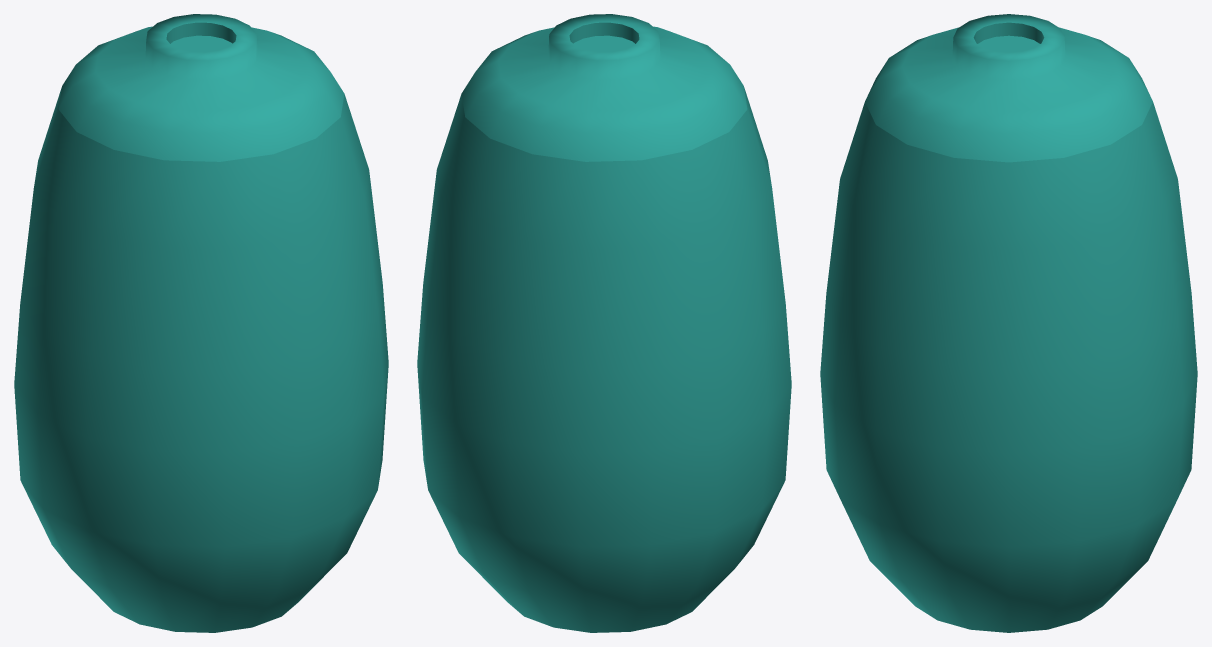
File: Vase.fbx
3 views of the same model, side by side, from view 1: azimuth 30°, elevation 25°; view 2: azimuth 150°, elevation 25°; view 3: azimuth 270°, elevation 25° (orthographic).
Parts seen in each view (by area): view 1: polySurface1062; view 2: polySurface1062; view 3: polySurface1062.
Boxes of the visible parts, x1,y1,x2,y2 form: polySurface1062: [14, 14, 388, 632]; polySurface1062: [417, 14, 791, 632]; polySurface1062: [820, 14, 1197, 632].
Size of the model in its own units: 0.1711 by 0.2764 by 0.1711.
